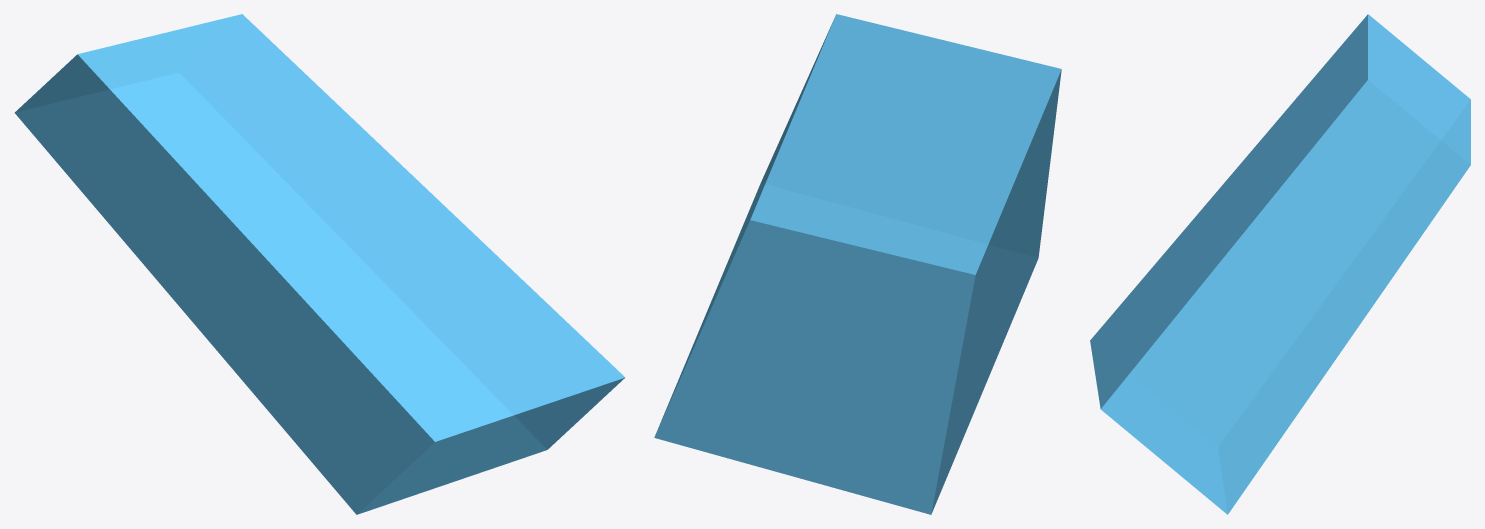
The model's file is Event_420107950_HBrechit_26.fbx.
3 renders of one model, left to right at view 1: azimuth 30°, elevation 25°; view 2: azimuth 150°, elevation 25°; view 3: azimuth 270°, elevation 25°, orthographic. The views are drawn at different scales.
Visible parts, largest first — view 1: Model; view 2: Model; view 3: Model.
Part boxes in pixels (bbox=[...]): Model: bbox=[14, 14, 625, 514]; Model: bbox=[654, 14, 1061, 514]; Model: bbox=[1090, 14, 1470, 514].
Size of the model in its own units: 1.04 by 1.14 by 1.1.
